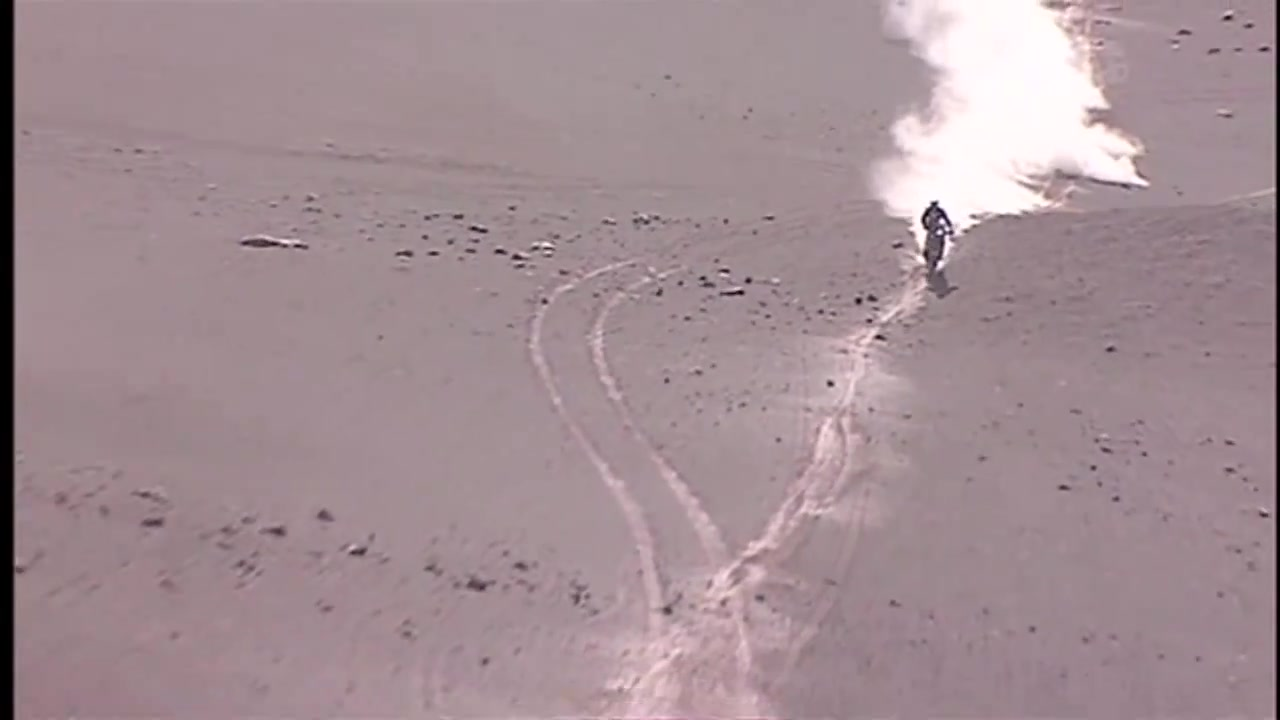motorbike: (919, 218, 950, 283)
